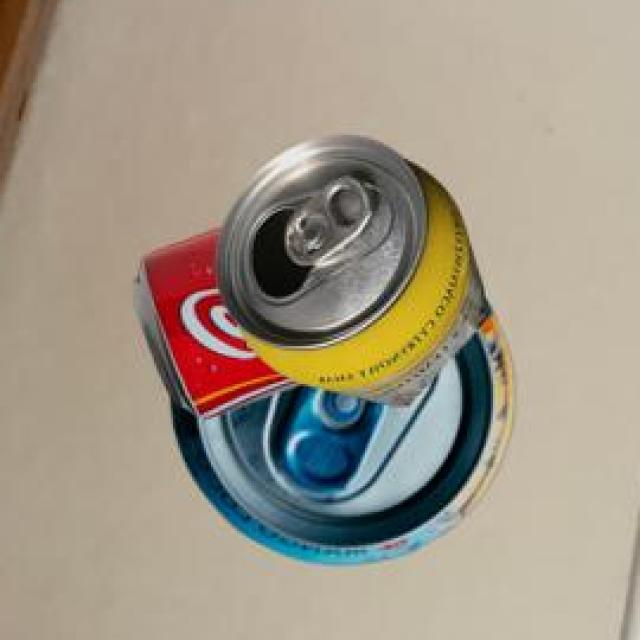logam: (168, 309, 511, 568), (212, 139, 487, 409), (129, 233, 297, 423)
